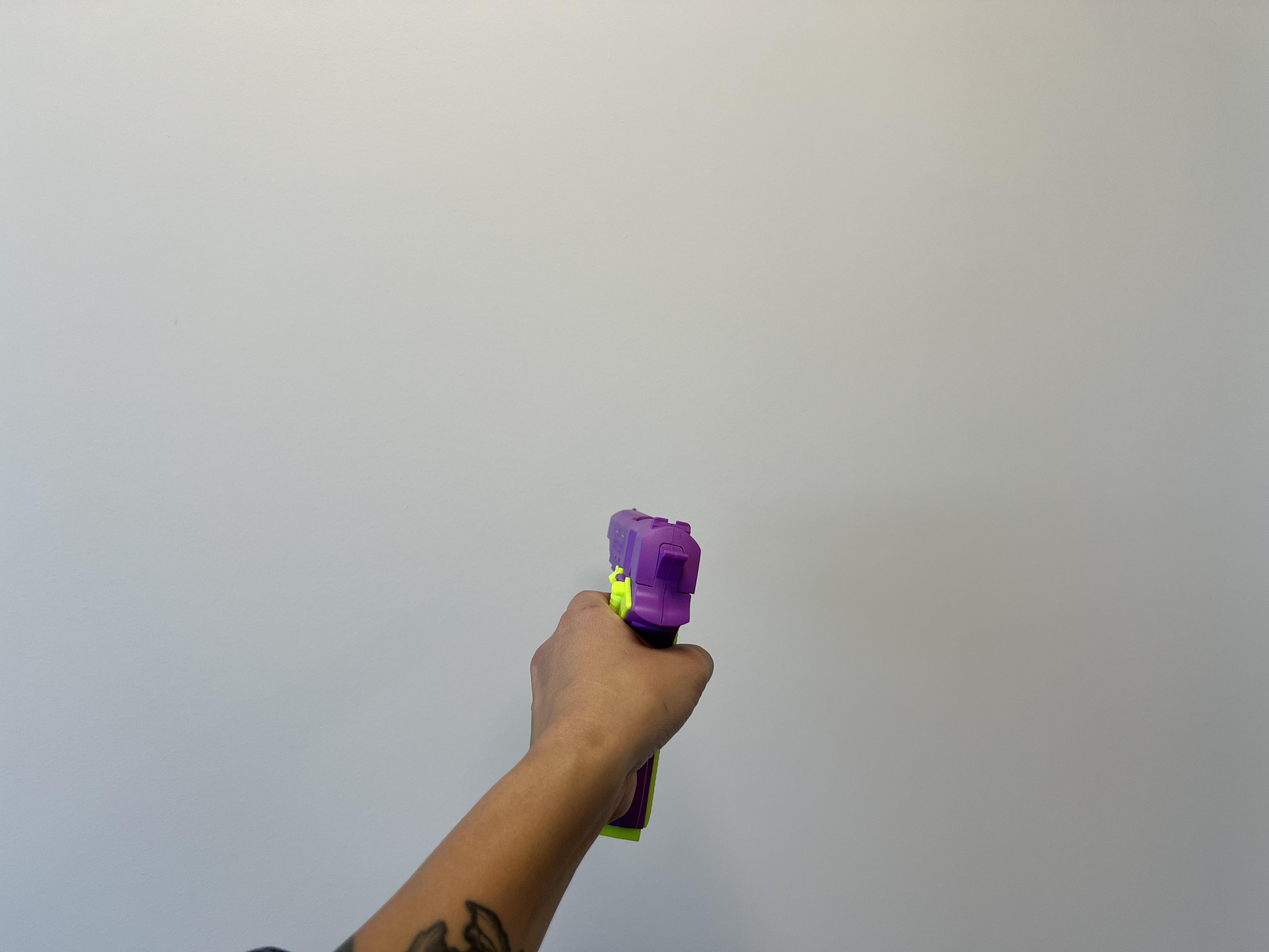Knife: (305, 597, 722, 952), (511, 593, 721, 822), (596, 497, 711, 653)
